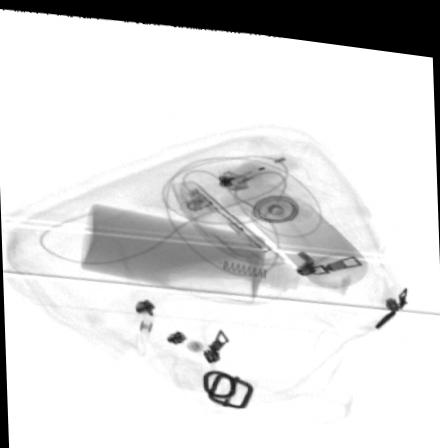Lighter: (213, 142, 303, 186)
Sprayer: (229, 164, 367, 278)
